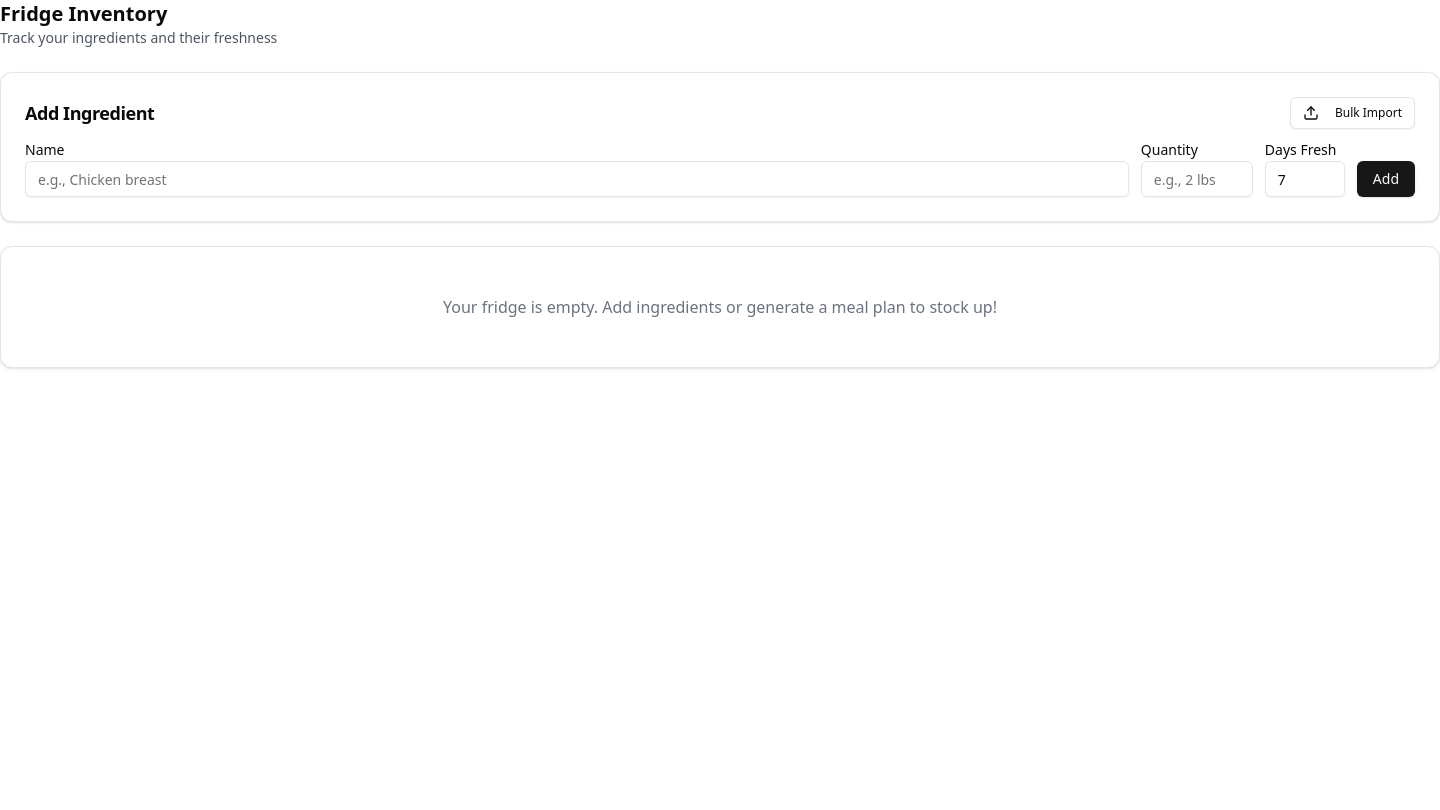
FridgeView › bulk import › should close dialog after successful import
Click the button with aria-label "open bulk import dialog".
click(1352, 113)  # box [1290,97,1415,129]
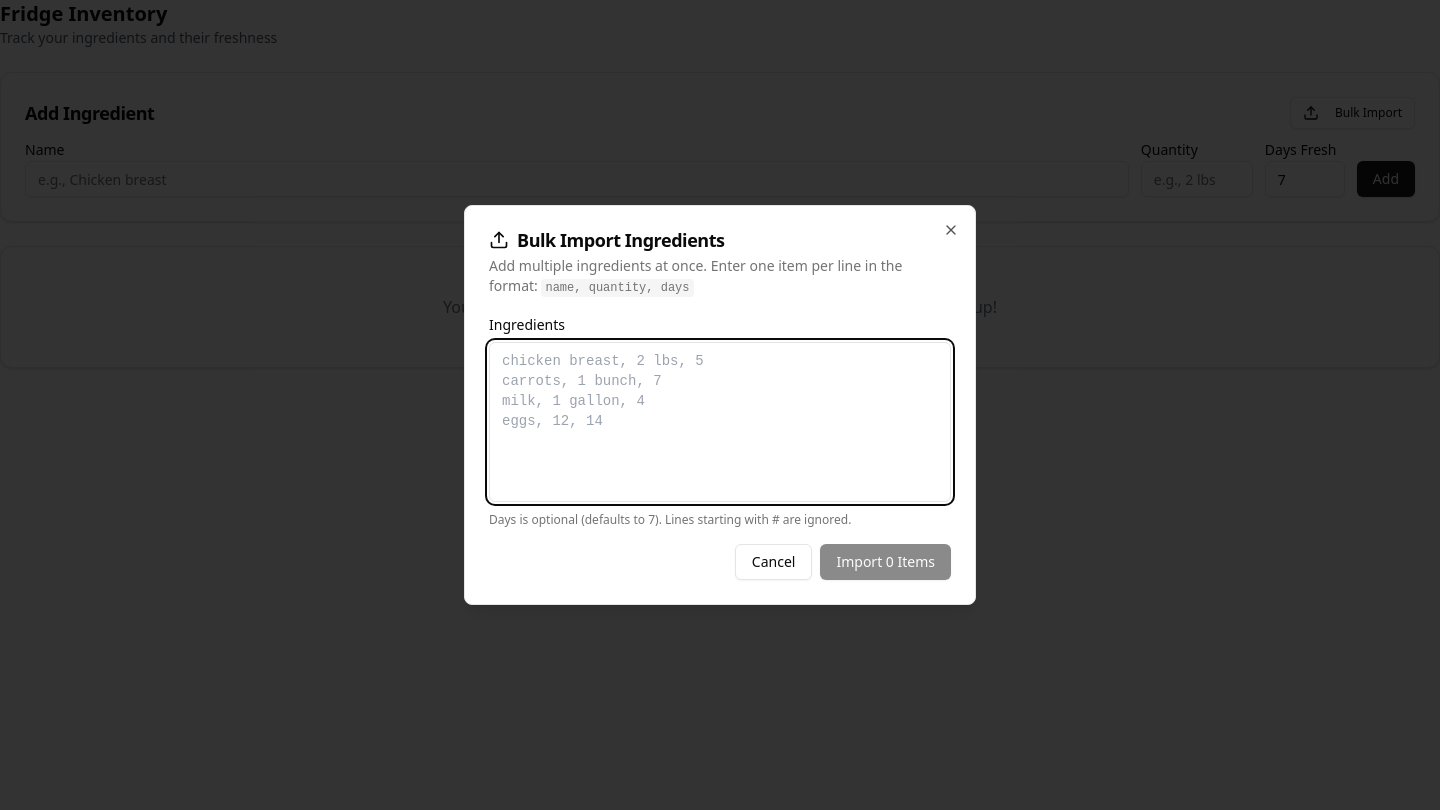
Result: the dialog is shown at [464,205,976,605]
Type "chicken, 2 lbs, 5" into the text box labelled "Ingredients".
click(720, 422); type("chicken, 2 lbs, 5")  # box [489,342,951,502]
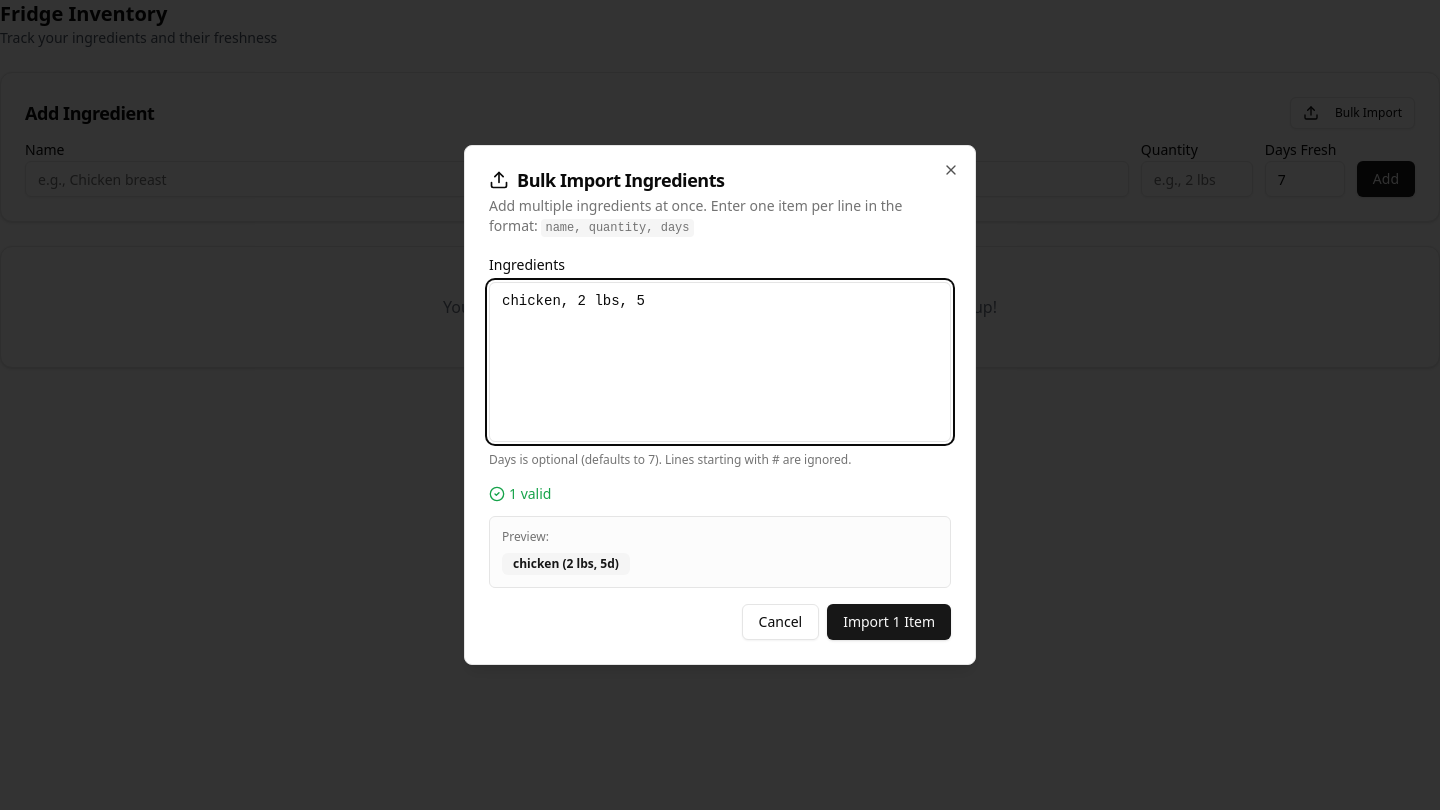
Click the button with aria-label "import 1 ingredient".
click(889, 622)  # box [827,604,951,640]
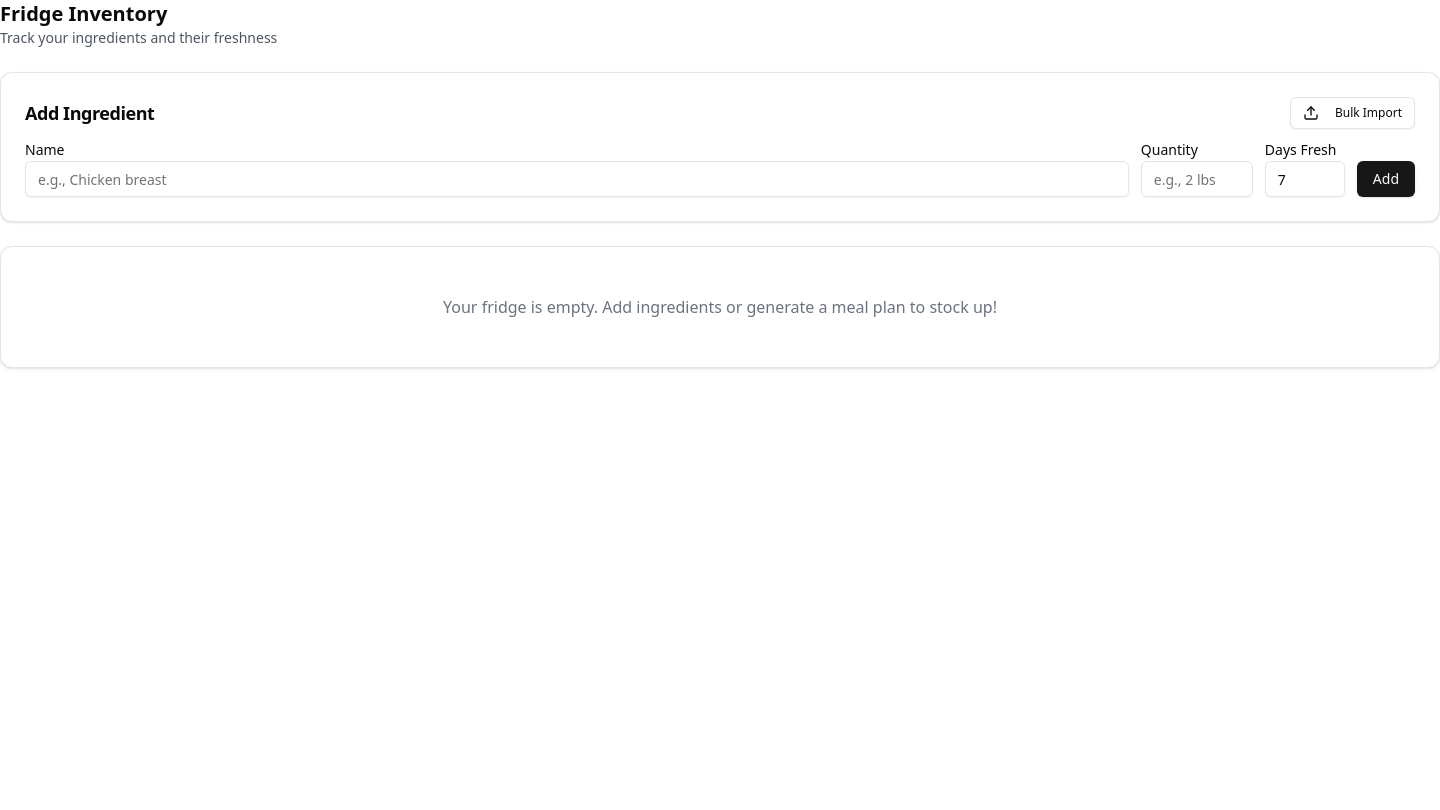
Result: the dialog is gone
